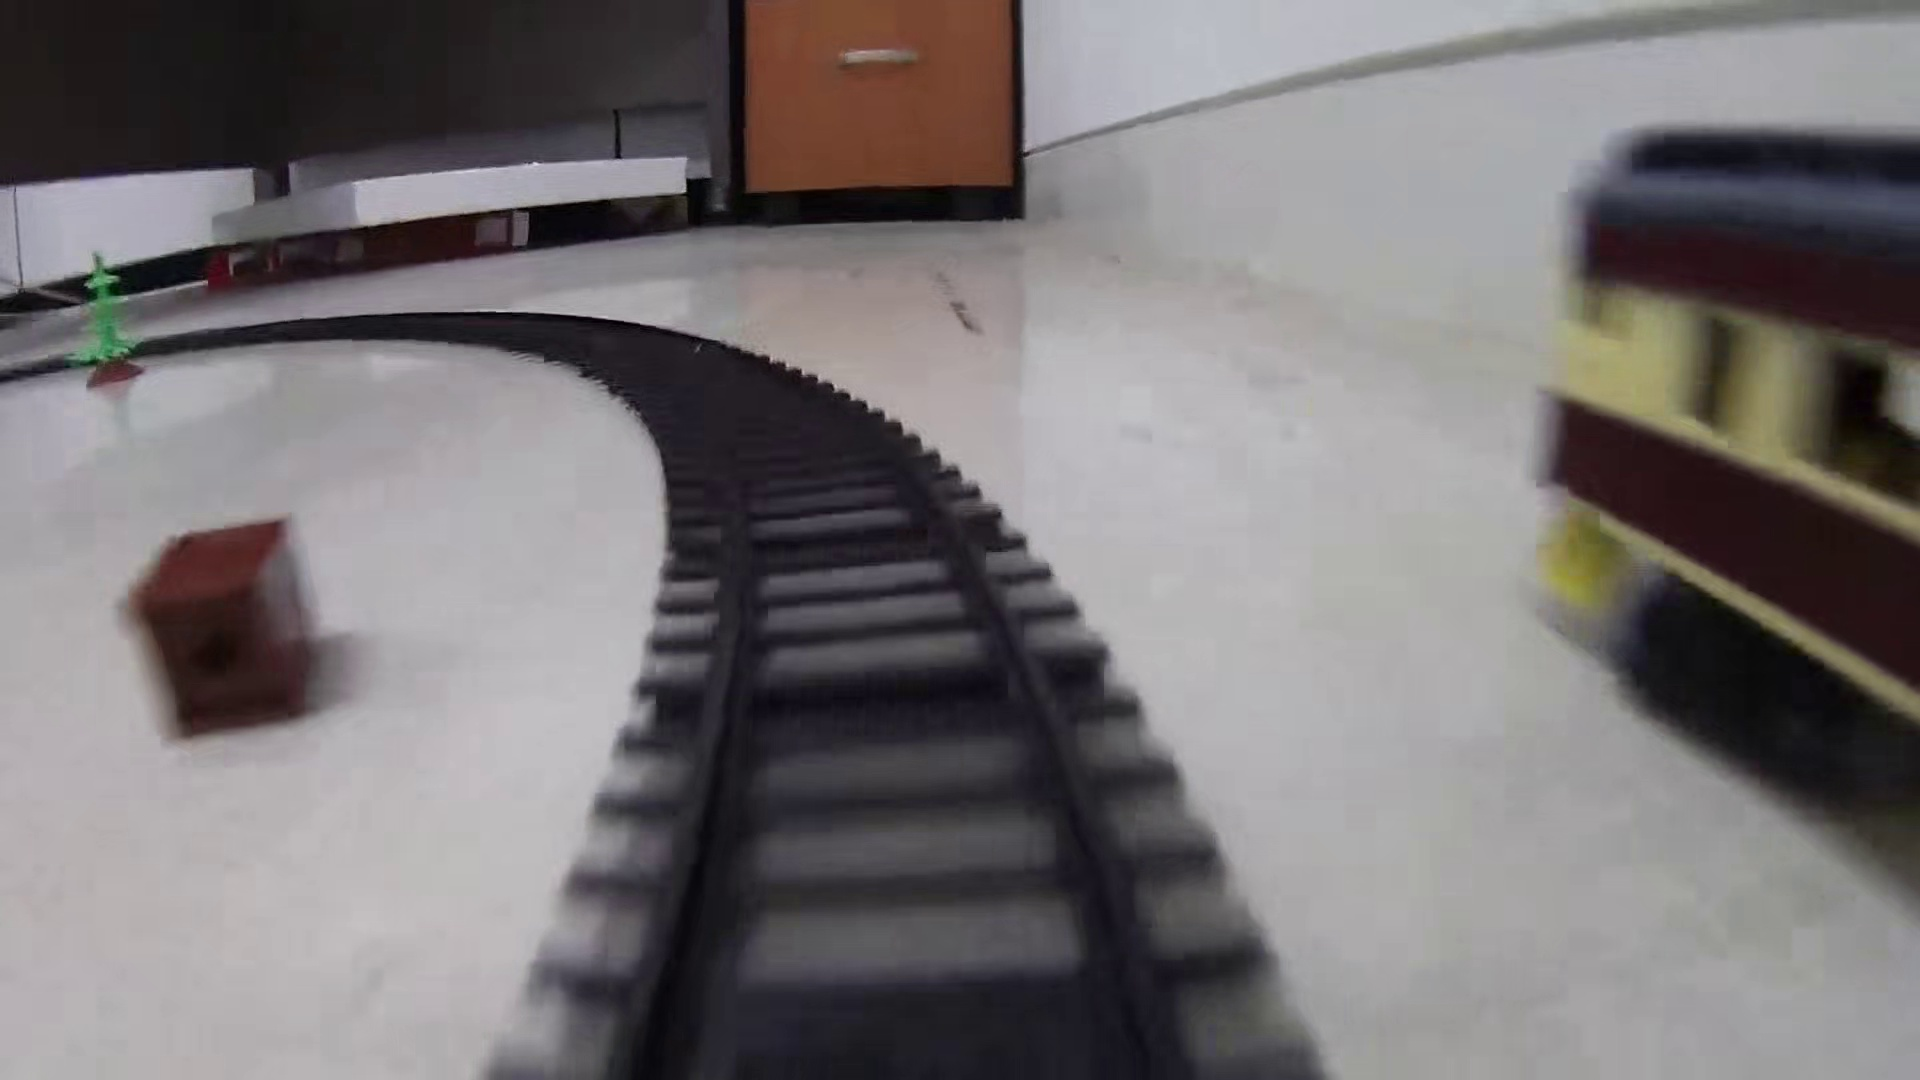box: (120, 516, 342, 749)
tree: (73, 250, 148, 389)
